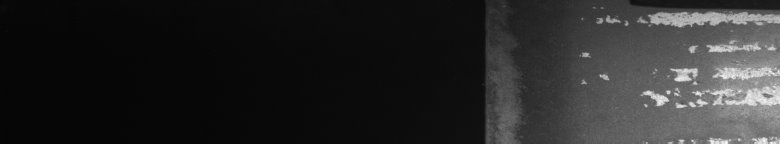kb: (579, 4, 776, 109)
